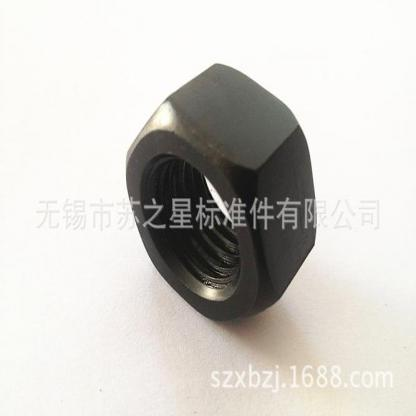FOD: (122, 60, 320, 322)
